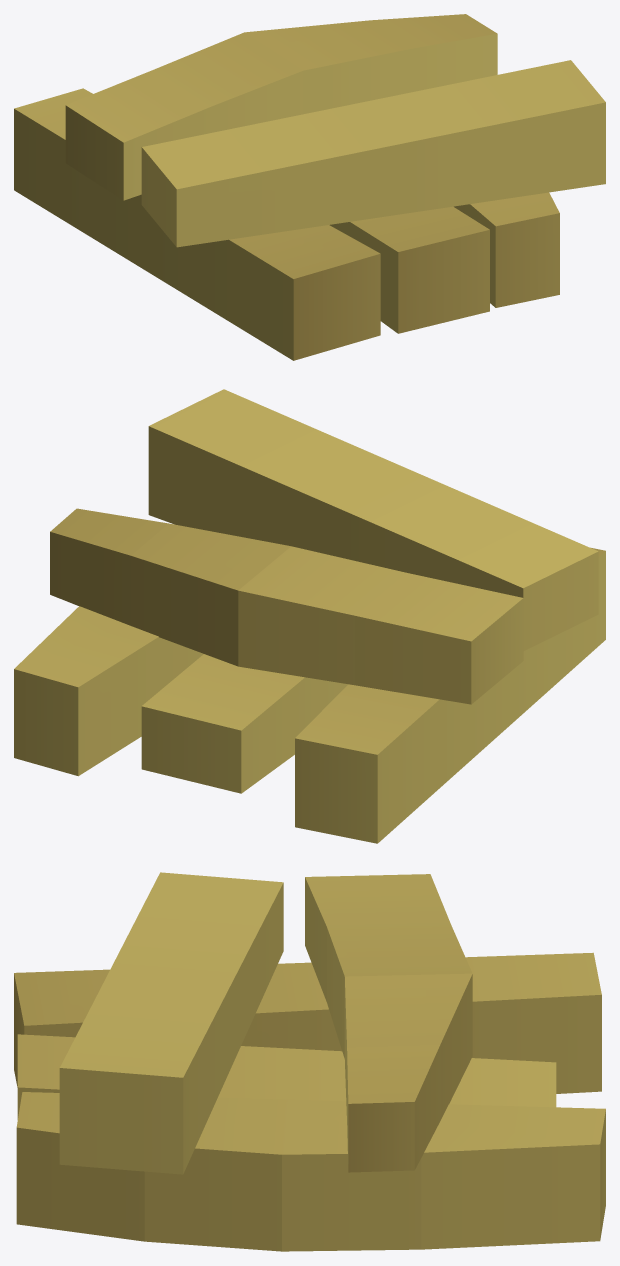
File: 3D_Slicer_Items_Fries.fbx
The picture shows the model from 3 angles, top to bottom: view 1: azimuth 30°, elevation 25°; view 2: azimuth 150°, elevation 25°; view 3: azimuth 270°, elevation 25°; orthographic projection. The views are drawn at different scales.
Visible parts, largest first — view 1: 3D_Slicer_Items_Fries; view 2: 3D_Slicer_Items_Fries; view 3: 3D_Slicer_Items_Fries.
Boxes of the visible parts, left/top/right/bottom form: 3D_Slicer_Items_Fries: left=14, top=14, right=605, bottom=360; 3D_Slicer_Items_Fries: left=14, top=389, right=605, bottom=843; 3D_Slicer_Items_Fries: left=14, top=872, right=605, bottom=1251.
Bounding box in the file's own units: 45.16 × 17.46 × 48.39.
